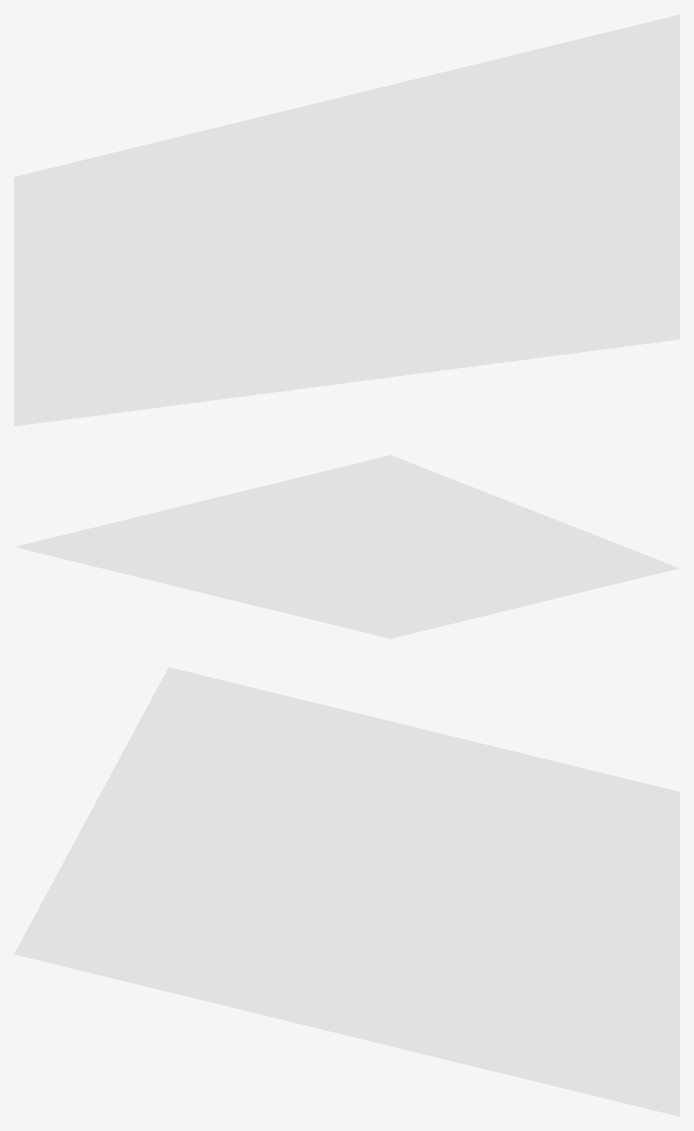
File: 6Gons.fbx
3 views of the same model, one above another, from view 1: azimuth 30°, elevation 25°; view 2: azimuth 150°, elevation 25°; view 3: azimuth 270°, elevation 25° (orthographic). The views are drawn at different scales.
Parts seen in each view (by area): view 1: 6Gon_B, 6Gon_A; view 2: 6Gon_B, 6Gon_A; view 3: 6Gon_B, 6Gon_A.
Boxes of the visible parts, box(x1,y1,x2,y2) form: 6Gon_B: box(14, 47, 679, 426); 6Gon_A: box(17, 14, 679, 338); 6Gon_B: box(92, 455, 679, 638); 6Gon_A: box(15, 455, 390, 637); 6Gon_B: box(14, 667, 679, 1050); 6Gon_A: box(16, 793, 679, 1116).
Bounding box in the file's own units: 69.19 × 2.65e-15 × 43.3.
